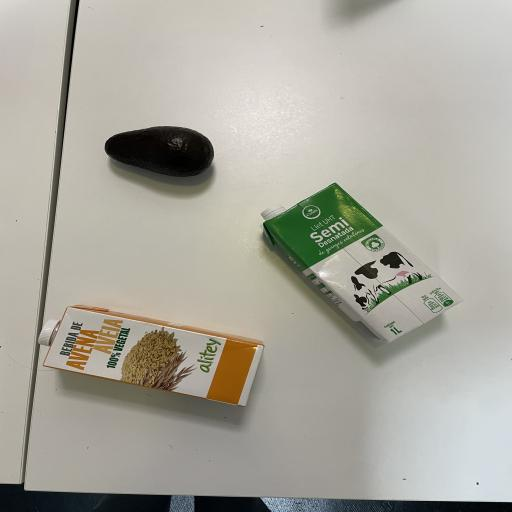avocado: (83, 103, 242, 208)
milk: (240, 168, 472, 386)
oat_milk: (17, 286, 299, 432)
